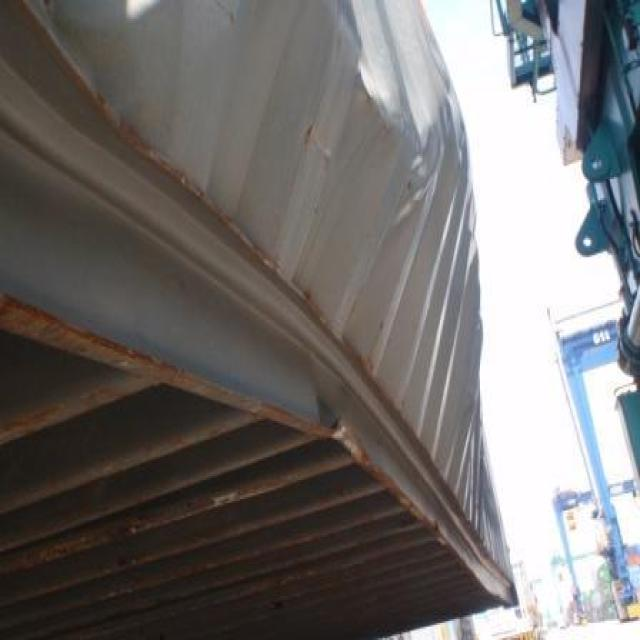dent: (172, 321, 434, 525)
